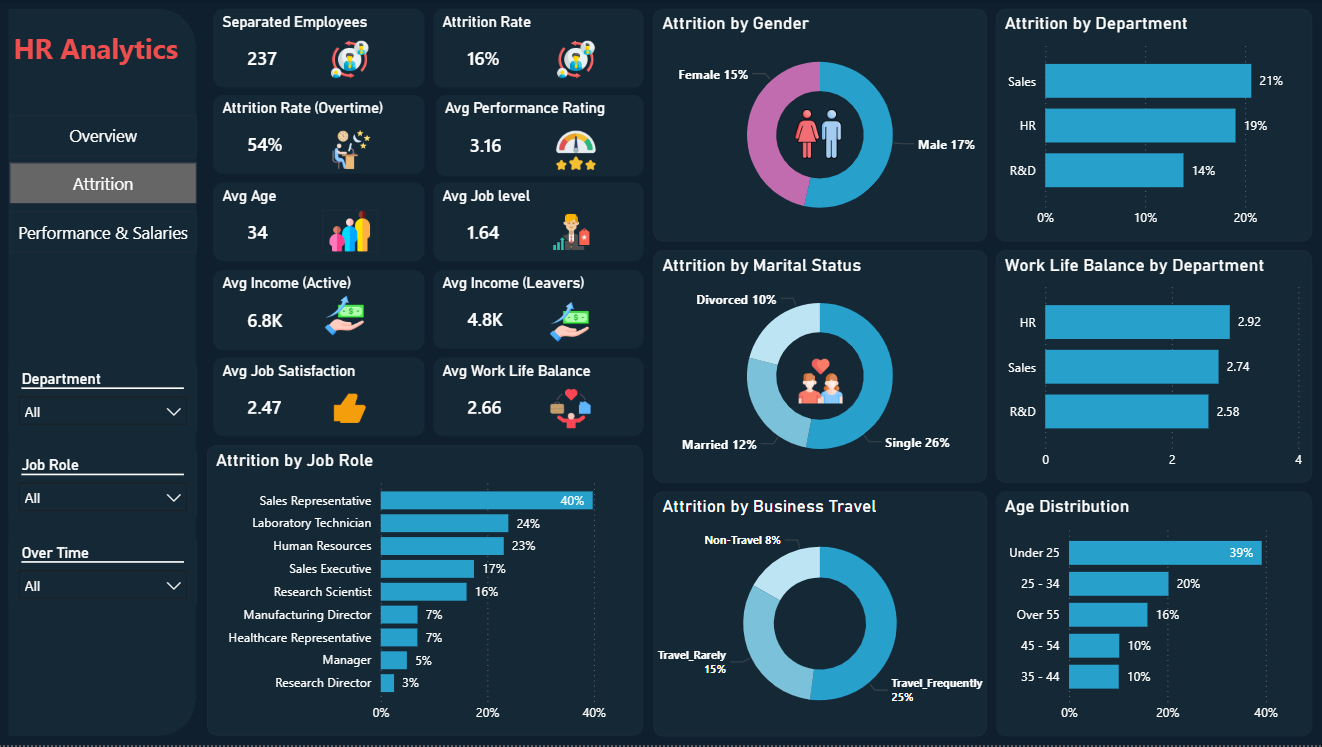

This screenshot's page, from the dashboard's own definition file:
{"tool":"powerbi","page":{"name":"Attrition","canvas":[1280,720],"ordinal":1},"visuals":[{"type":"cardVisual","title":"Separated Employees","fields":{"Data":["_Measures.Separated Employees"]},"box":[208.3,8.6,203.8,76.1],"z":0},{"type":"donutChart","title":"Attrition by Gender","fields":{"Category":["HR.Gender"],"Y":["_Measures.Attrition Rate"]},"box":[633.8,8.5,322.3,224.6],"z":1000},{"type":"cardVisual","title":"Avg Age","fields":{"Data":["_Measures.Avg Age (Leavers)"]},"box":[208.3,176.8,203.8,76.1],"z":2000},{"type":"barChart","title":"Attrition by Department","fields":{"Category":["HR.Department"],"Y":["_Measures.Attrition Rate"]},"box":[964.8,8.6,305.6,224.6],"z":3000},{"type":"barChart","title":"Work Life Balance by Department","fields":{"Category":["HR.Department"],"Y":["_Measures.Avg WLB – Leavers"]},"box":[964.6,241.5,305.4,224.6],"z":4000},{"type":"cardVisual","title":"Attrition Rate","fields":{"Data":["_Measures.Attrition Rate"]},"box":[421.3,8.5,202.8,76.1],"z":5000},{"type":"shape","box":[11.2,8.8,181.2,702.5],"z":6000},{"type":"cardVisual","title":"Avg Job level","fields":{"Data":["_Measures.Avg Job level"]},"box":[421.3,176.3,202.8,76.1],"z":7000},{"type":"clusteredBarChart","title":"Attrition by Job Role","fields":{"Category":["HR.Job Role"],"Y":["_Measures.Attrition Rate"]},"box":[202.5,429.6,421,281],"z":8000},{"type":"textbox","box":[10.9,22.9,171.4,61.6],"z":9000},{"type":"actionButton","box":[12.1,111.1,181.1,39.8],"z":10000},{"type":"cardVisual","title":"Attrition Rate (Overtime)","fields":{"Data":["_Measures.Leavers % (Overtime)"]},"box":[208.3,92.1,203.8,76.1],"z":11000},{"type":"actionButton","box":[12.1,156.9,181.1,39.8],"z":12000},{"type":"cardVisual","title":"Avg Income (Active)","fields":{"Data":["_Measures.Avg Income (Leavers)"]},"box":[208.3,260.2,203.8,77.3],"z":13000},{"type":"actionButton","box":[12.1,204,181.1,39.8],"z":14000},{"type":"cardVisual","title":"Avg Job Satisfaction","fields":{"Data":["_Measures.Avg JS (Leavers)"]},"box":[208.3,344.9,203.8,76.1],"z":15000},{"type":"image","box":[825.8,247.5,79.7,64],"z":16000},{"type":"slicer","fields":{"Values":["HR.Department"]},"box":[10.9,352.5,182.3,64],"z":17000},{"type":"slicer","fields":{"Values":["HR.Job Role"]},"box":[10.9,435.8,182.3,64],"z":18000},{"type":"slicer","fields":{"Values":["HR.Over Time"]},"box":[10.9,520.3,182.3,64],"z":19000},{"type":"donutChart","title":"Attrition by Marital Status","fields":{"Category":["HR.Marital Status"],"Y":["_Measures.Attrition Rate"]},"box":[633.8,241.5,322.3,224.6],"z":20000},{"type":"image","box":[769.6,94.5,47.9,70],"z":21000},{"type":"image","box":[772.1,346.1,45.4,43],"z":22000},{"type":"image","box":[311.5,124.3,61.6,39.8],"z":23000},{"type":"image","box":[524,37.4,70,39.8],"z":24000},{"type":"image","box":[305.4,37.4,70,39.8],"z":25000},{"type":"image","box":[305.4,375.5,71.2,37.4],"z":26000},{"type":"cardVisual","title":"Avg Performance Rating","fields":{"Data":["_Measures.Avg Performance Rating"]},"box":[423.7,91.8,200.4,78.5],"z":27000},{"type":"image","box":[294.6,284.9,82.1,39.8],"z":28000},{"type":"cardVisual","title":"Avg Income (Leavers)","fields":{"Data":["_Measures.Avg Income (Leavers)"]},"box":[421.3,260.8,202.8,76.1],"z":29000},{"type":"image","box":[313.9,202.8,54.3,41],"z":30000},{"type":"cardVisual","title":"Avg Work Life Balance ","fields":{"Data":["_Measures.Avg WLB – Leavers"]},"box":[421.3,345.3,202.8,76.1],"z":31000},{"type":"image","box":[512.5,203.8,82.5,40],"z":32000},{"type":"barChart","title":"Age Distribution","fields":{"Category":["HR.CF_age band"],"Y":["_Measures.Attrition Rate"]},"box":[964.6,474.5,305.4,236.6],"z":33000},{"type":"donutChart","title":"Attrition by Business Travel","fields":{"Category":["HR.Business Travel"],"Y":["_Measures.Attrition Rate"]},"box":[633.8,474.5,322.3,236.6],"z":34000},{"type":"image","box":[527.8,125.2,62.6,39.3],"z":35000},{"type":"image","box":[511.9,291,82.1,39.8],"z":36000},{"type":"image","box":[520.3,373,67.6,43.5],"z":37000}]}

Visuals, with their boxes in screenshot pixels (x1, y1, x2, y2), scaled from the page's 1280x720 canvas onto the 1322x747 screenshot:
"Separated Employees" cardVisual: (215, 9, 426, 88)
"Attrition by Gender" donutChart: (655, 9, 987, 242)
"Avg Age" cardVisual: (215, 183, 426, 262)
"Attrition by Department" barChart: (996, 9, 1312, 242)
"Work Life Balance by Department" barChart: (996, 251, 1312, 484)
"Attrition Rate" cardVisual: (435, 9, 645, 88)
shape: (12, 9, 199, 738)
"Avg Job level" cardVisual: (435, 183, 645, 262)
"Attrition by Job Role" clusteredBarChart: (209, 446, 644, 737)
textbox: (11, 24, 188, 88)
actionButton: (12, 115, 200, 157)
"Attrition Rate (Overtime)" cardVisual: (215, 96, 426, 175)
actionButton: (12, 163, 200, 204)
"Avg Income (Active)" cardVisual: (215, 270, 426, 350)
actionButton: (12, 212, 200, 253)
"Avg Job Satisfaction" cardVisual: (215, 358, 426, 437)
image: (853, 257, 935, 323)
slicer - HR.Department: (11, 366, 200, 432)
slicer - HR.Job Role: (11, 452, 200, 519)
slicer - HR.Over Time: (11, 540, 200, 606)
"Attrition by Marital Status" donutChart: (655, 251, 987, 484)
image: (795, 98, 844, 171)
image: (797, 359, 844, 404)
image: (322, 129, 385, 170)
image: (541, 39, 613, 80)
image: (315, 39, 388, 80)
image: (315, 390, 389, 428)
"Avg Performance Rating" cardVisual: (438, 95, 645, 177)
image: (304, 296, 389, 337)
"Avg Income (Leavers)" cardVisual: (435, 271, 645, 350)
image: (324, 210, 380, 253)
"Avg Work Life Balance " cardVisual: (435, 358, 645, 437)
image: (529, 211, 615, 253)
"Age Distribution" barChart: (996, 492, 1312, 738)
"Attrition by Business Travel" donutChart: (655, 492, 987, 738)
image: (545, 130, 610, 171)
image: (529, 302, 613, 343)
image: (537, 387, 607, 432)
